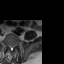CCS_normal: (11, 44, 12, 53)
LFS_normal: (14, 42, 15, 48)
LLS_normal: (12, 44, 14, 50)
RFS_normal: (8, 43, 9, 48)
RLS_normal: (9, 44, 11, 51)
